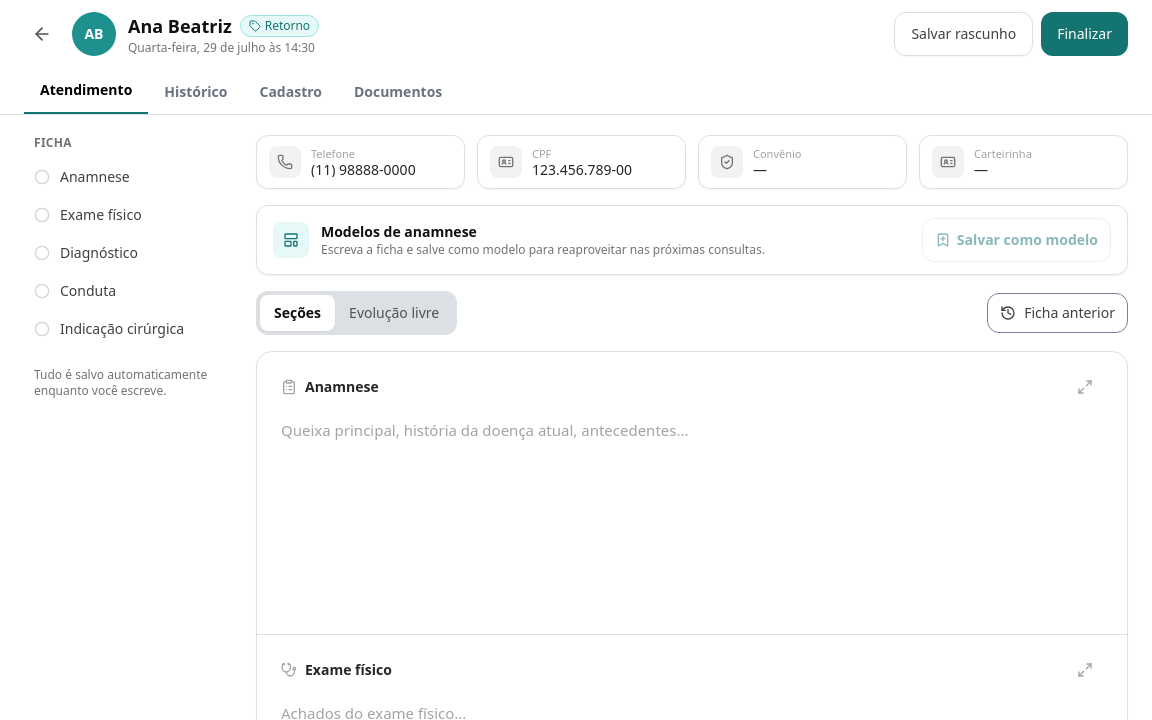
Test: AtendimentoTabs › não menciona solicitação ao finalizar sem o marcador
Click the button "Finalizar".
click(1085, 34)  # box [1041,12,1128,56]
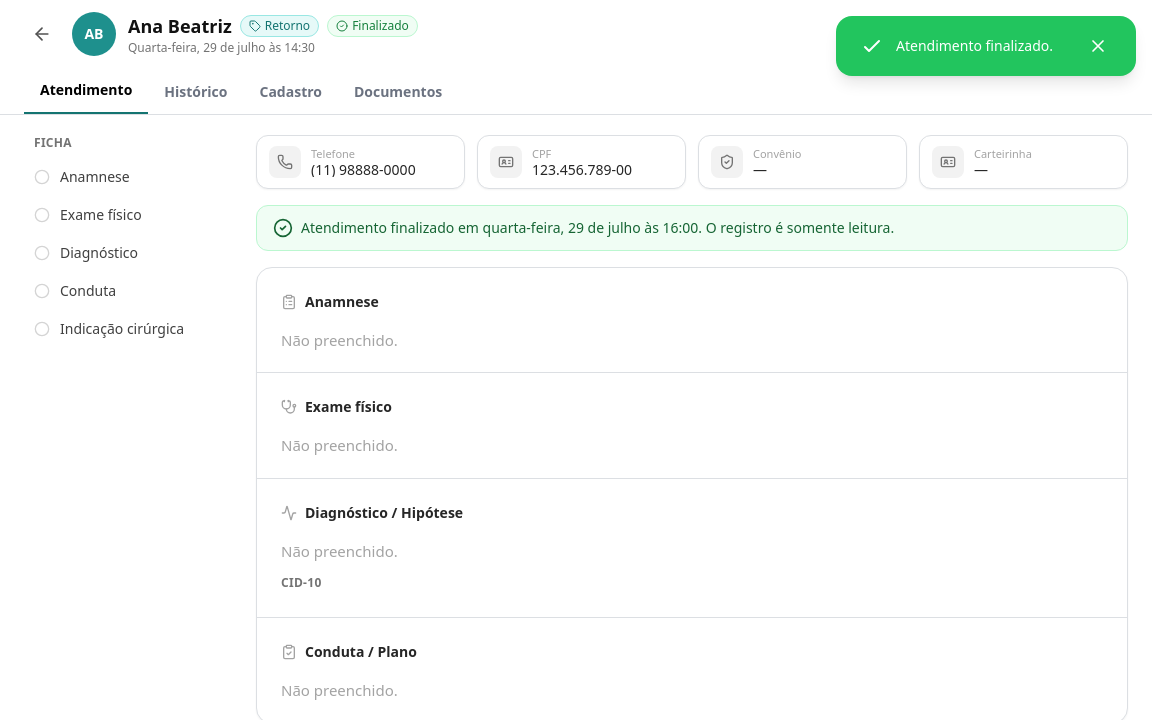
Result: the text "Atendimento finalizado." is shown at [896,36,1072,56]
